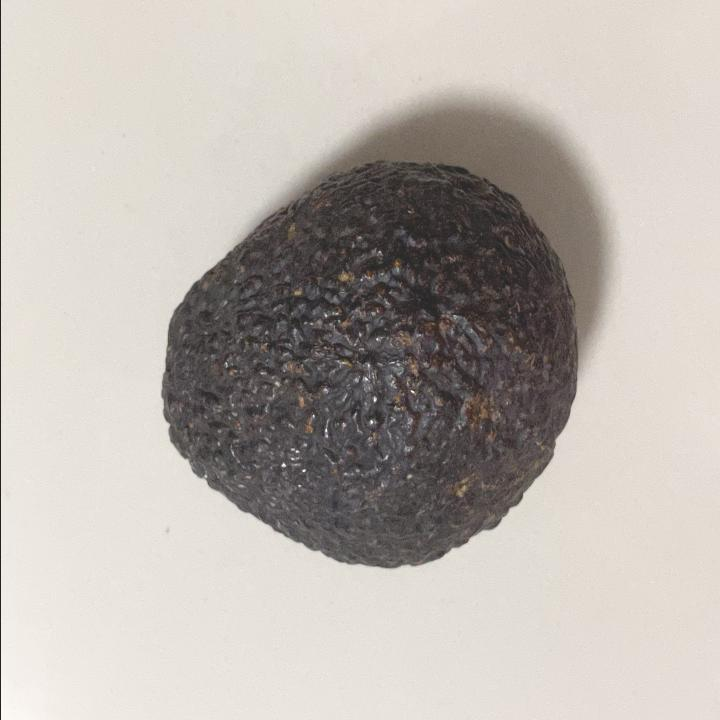Level2: (153, 152, 584, 574)
